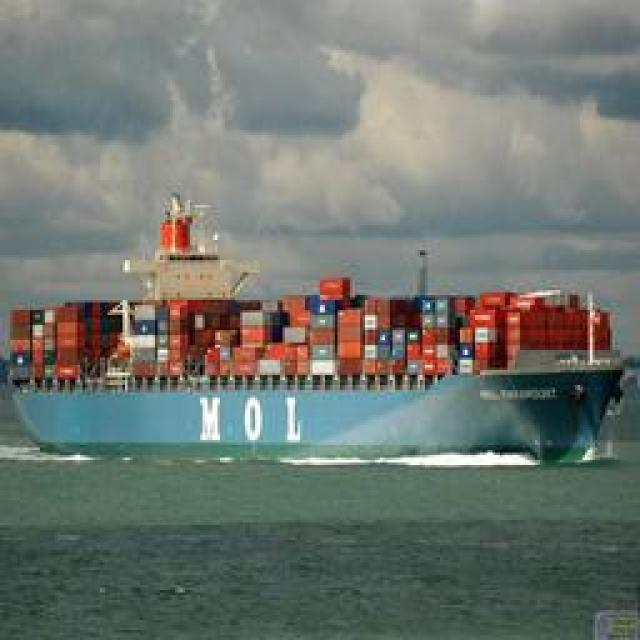ship2: (5, 197, 629, 469)
